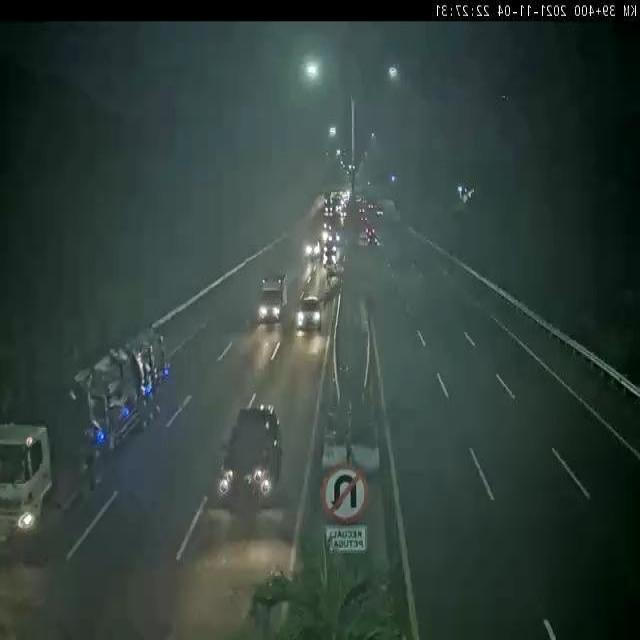Car: (207, 408, 289, 516), (293, 296, 326, 337), (305, 239, 324, 262), (320, 242, 338, 262), (363, 226, 379, 246)
Truck: (0, 297, 176, 640), (253, 268, 292, 336)
